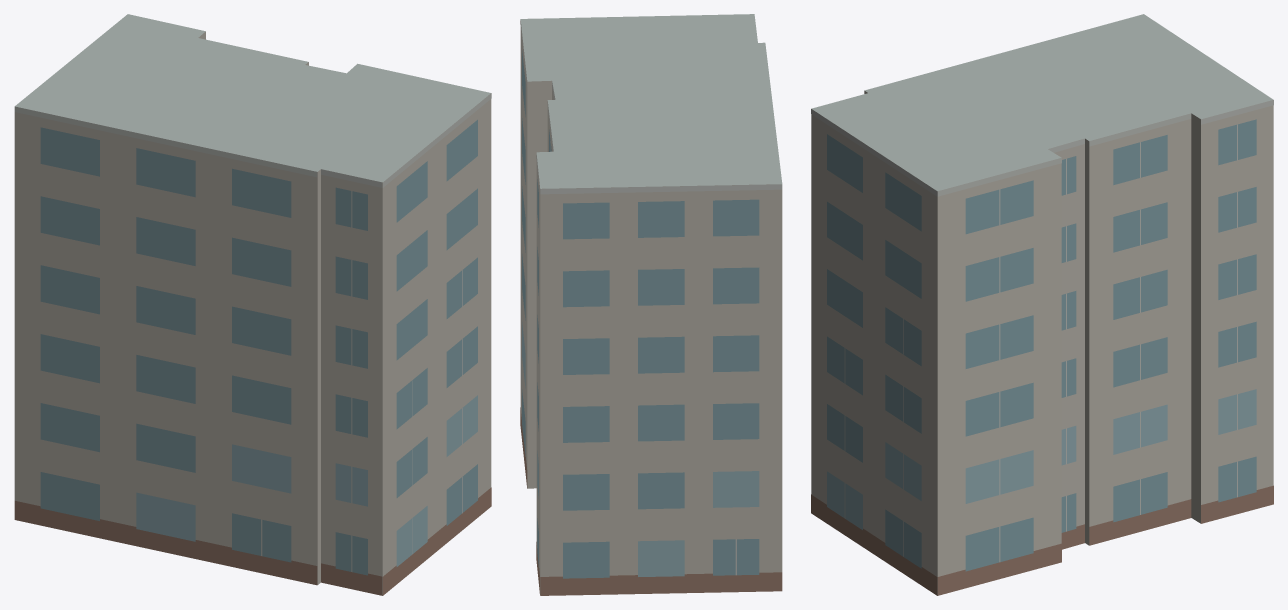
File: survey-upis-32761542.glb
3 views of the same model, side by side, from view 1: azimuth 30°, elevation 25°; view 2: azimuth 150°, elevation 25°; view 3: azimuth 270°, elevation 25° (orthographic). The views are drawn at different scales.
Visible parts, largest first — view 1: survey-upis-32761542.tmp; view 2: survey-upis-32761542.tmp; view 3: survey-upis-32761542.tmp.
Boxes of the visible parts, x1,y1,x2,y2 form: survey-upis-32761542.tmp: (14,14,491,595); survey-upis-32761542.tmp: (520,14,782,595); survey-upis-32761542.tmp: (811,14,1273,595).
Size of the model in its own units: 16.97 by 18.05 by 18.71.
